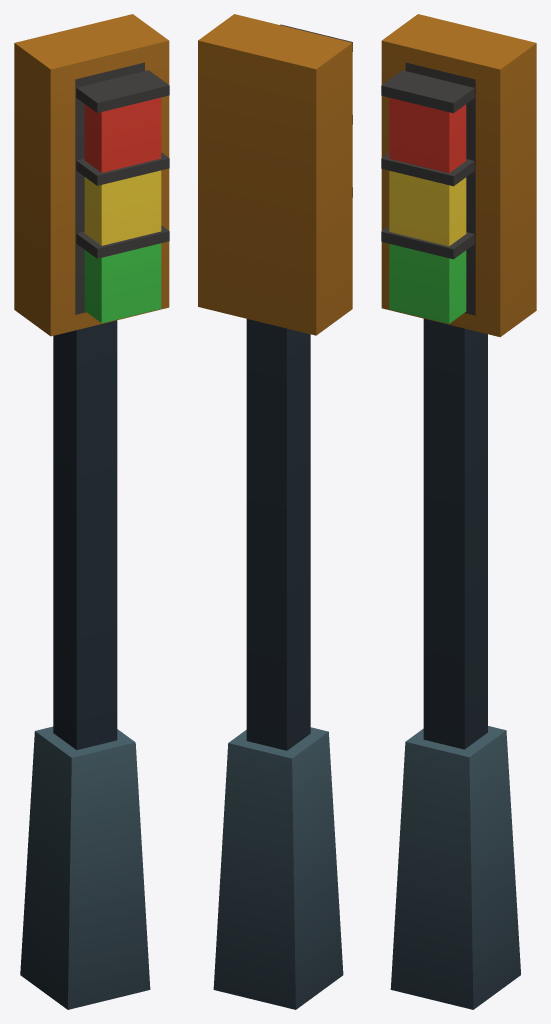
Rendered from Traffic_lights_2.fbx.
The picture shows the model from 3 angles, left to right: view 1: azimuth 30°, elevation 25°; view 2: azimuth 150°, elevation 25°; view 3: azimuth 330°, elevation 25°; orthographic projection.
Parts seen in each view (by area): view 1: Traffic_lights_2; view 2: Traffic_lights_2; view 3: Traffic_lights_2.
Boxes of the visible parts, box(x1,y1,x2,y2) form: Traffic_lights_2: box(14, 14, 169, 1009); Traffic_lights_2: box(198, 14, 352, 1009); Traffic_lights_2: box(381, 14, 536, 1009).
Bounding box in the file's own units: 59.17 × 449 × 58.03.
